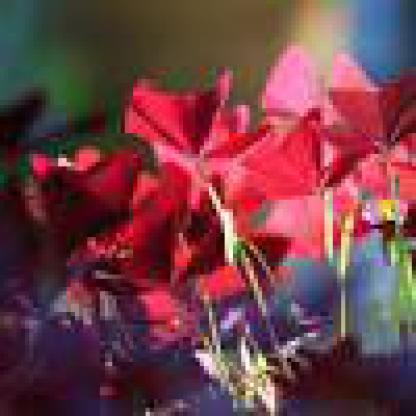Kupu-Kupu: (325, 80, 413, 184), (35, 147, 143, 222)
